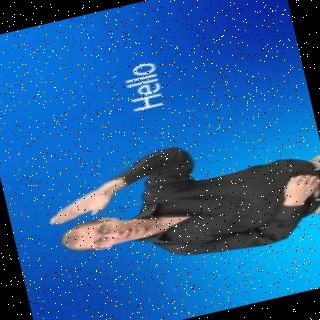Hello: (32, 111, 320, 292)
